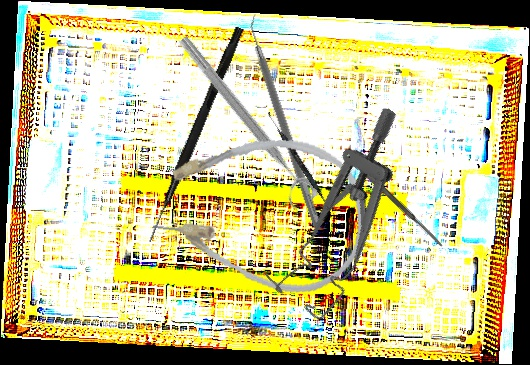Cannula: (145, 118, 375, 303)
Fixation Ring: (164, 31, 322, 214)
Hook Surgical: (145, 25, 245, 245)
Spatula Surgical: (241, 12, 330, 228), (348, 155, 445, 250), (264, 111, 333, 209)
Speculum: (247, 104, 455, 326)
